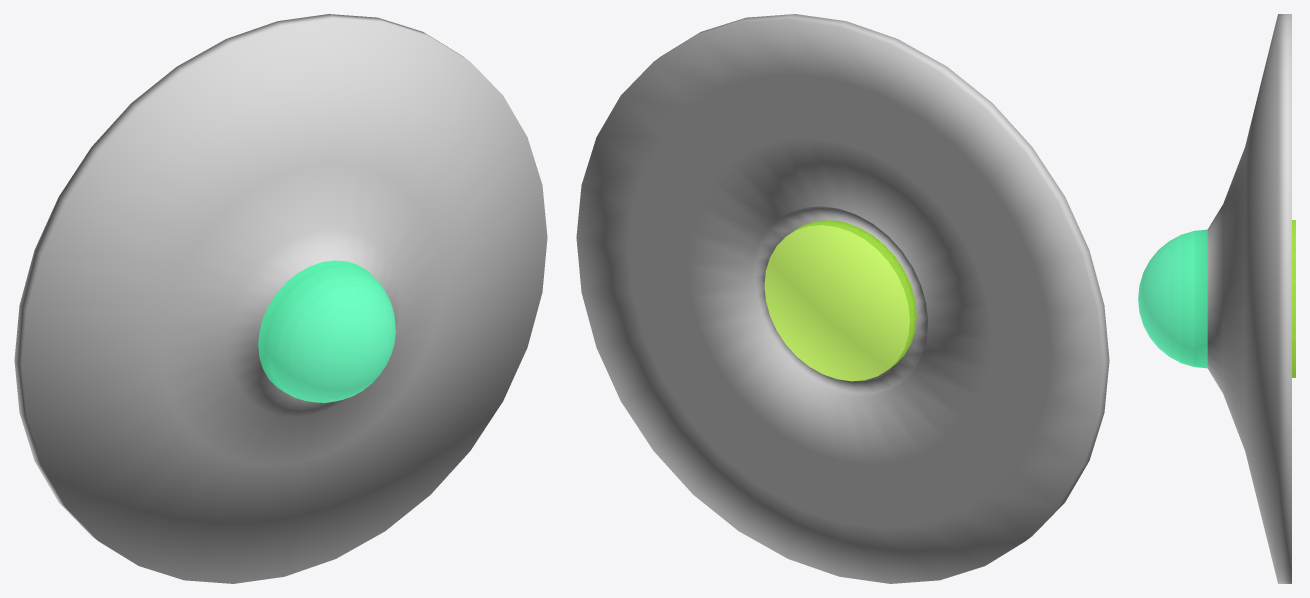
File: ufo.glb
The picture shows the model from 3 angles, left to right: view 1: azimuth 30°, elevation 25°; view 2: azimuth 150°, elevation 25°; view 3: azimuth 270°, elevation 25°; orthographic projection. The views are drawn at different scales.
Parts seen in each view (by area): view 1: Circle; view 2: Circle; view 3: Circle.
Boxes of the visible parts, <box> form: Circle: <box>14,14,547,583</box>; Circle: <box>576,14,1109,583</box>; Circle: <box>1138,14,1295,583</box>.
Bounding box in the file's own units: 8.21 × 8.21 × 2.27.
Materials: 3 (2 with a texture image).
